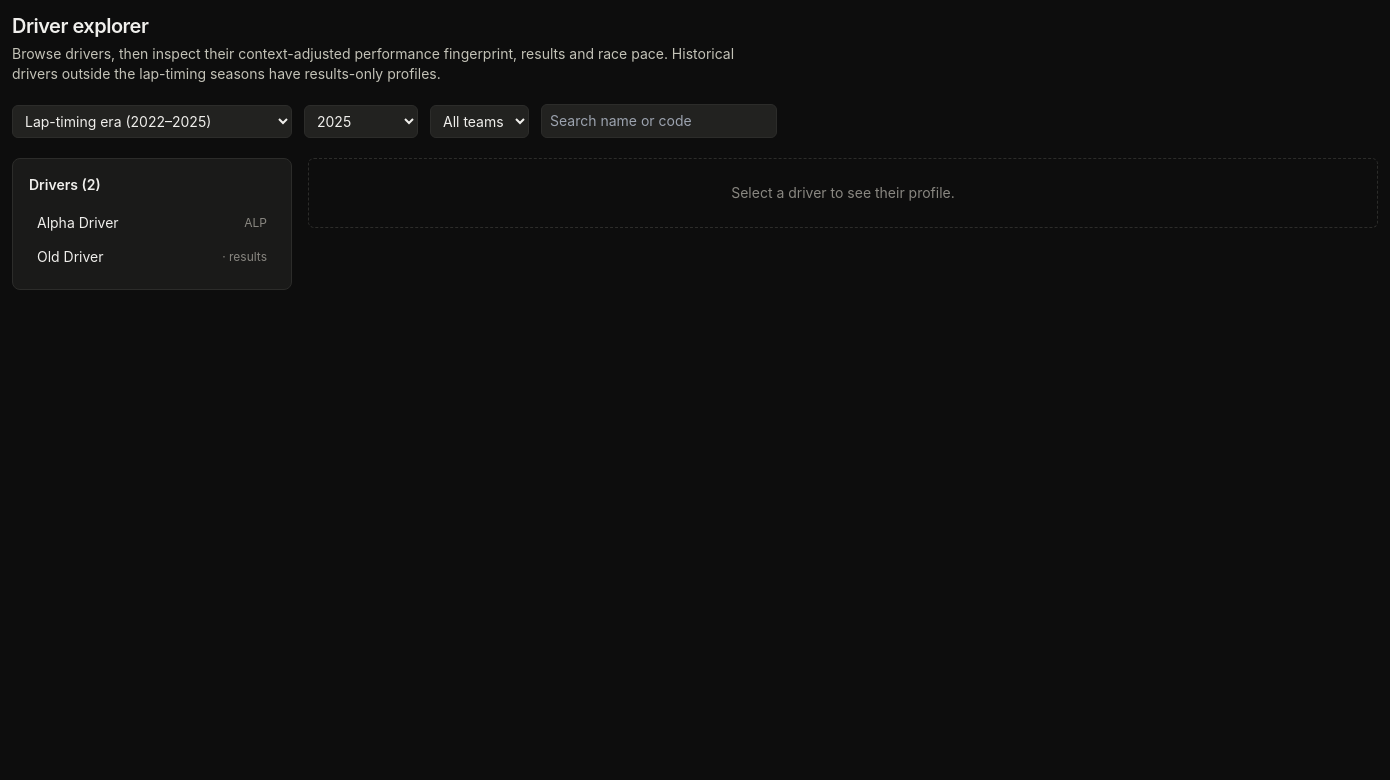
Test case: Driver explorer › filters by search and shows a results-only profile for historical drivers
Check: the text "Alpha Driver" is shown, box [37,213,119,233]
Type "old" into the field named "Search drivers" at x=659, y=121, box [541,104,777,138]
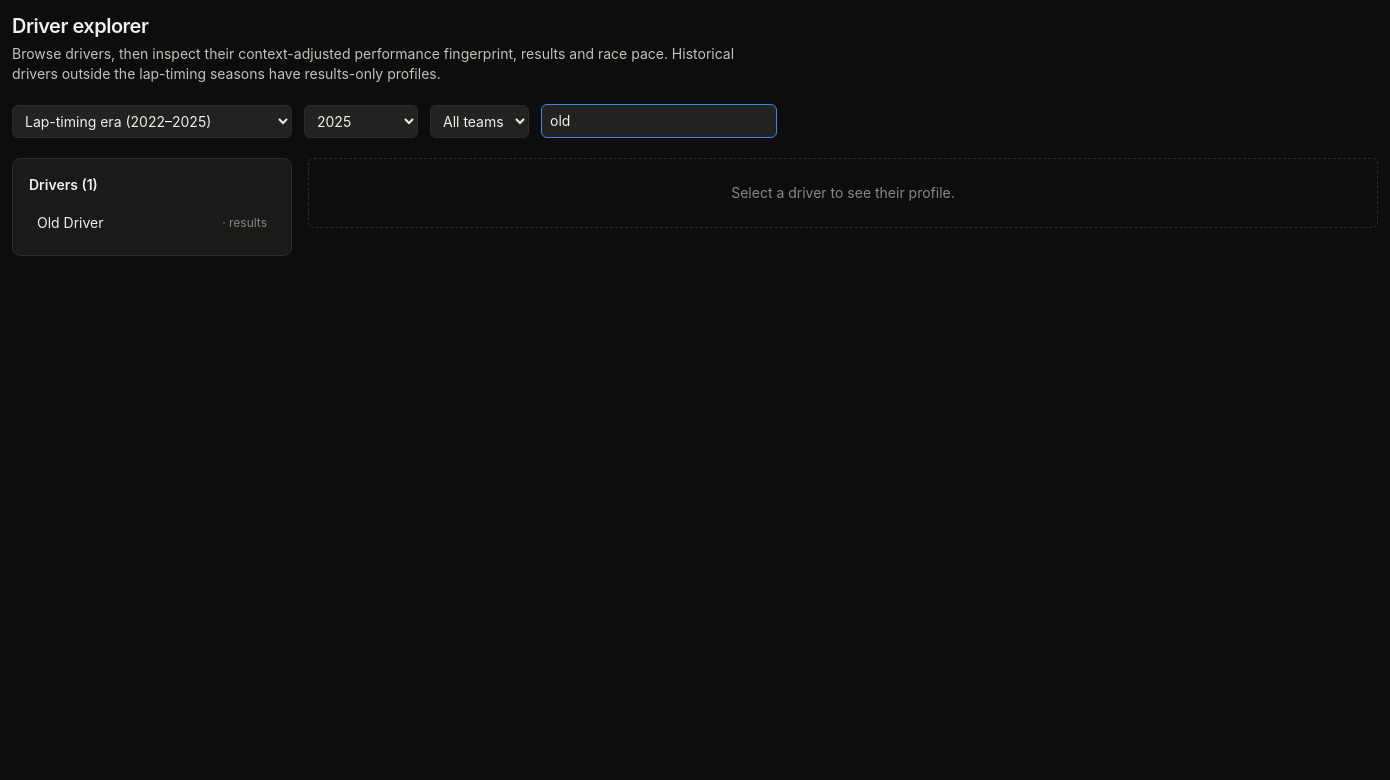
Check: the button "Alpha Driver" is gone
Click the text "Old Driver" at x=70, y=223, box [37,213,104,233]
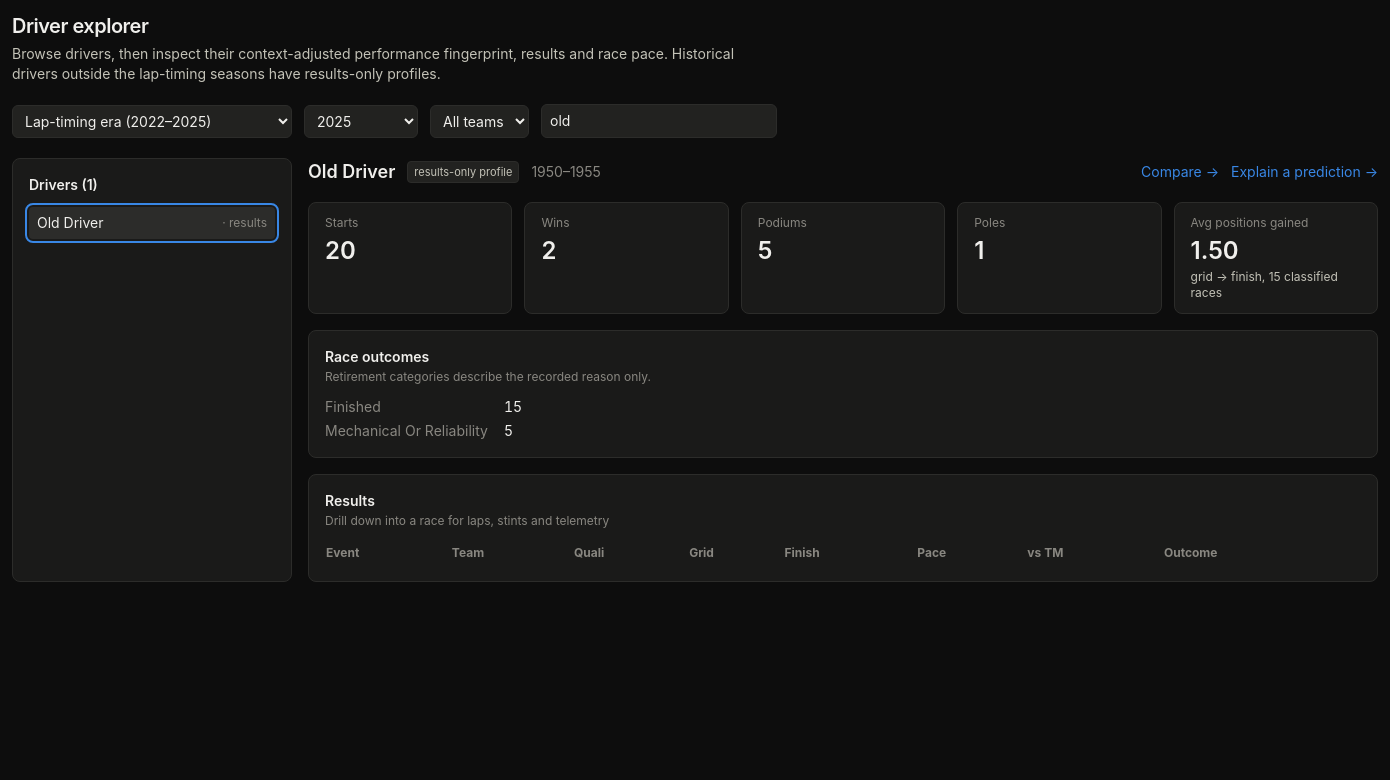
Check: the text "results-only profile" is shown, box [407,161,519,183]
Check: the text "Mechanical Or Reliability" is shown, box [325,421,488,441]
